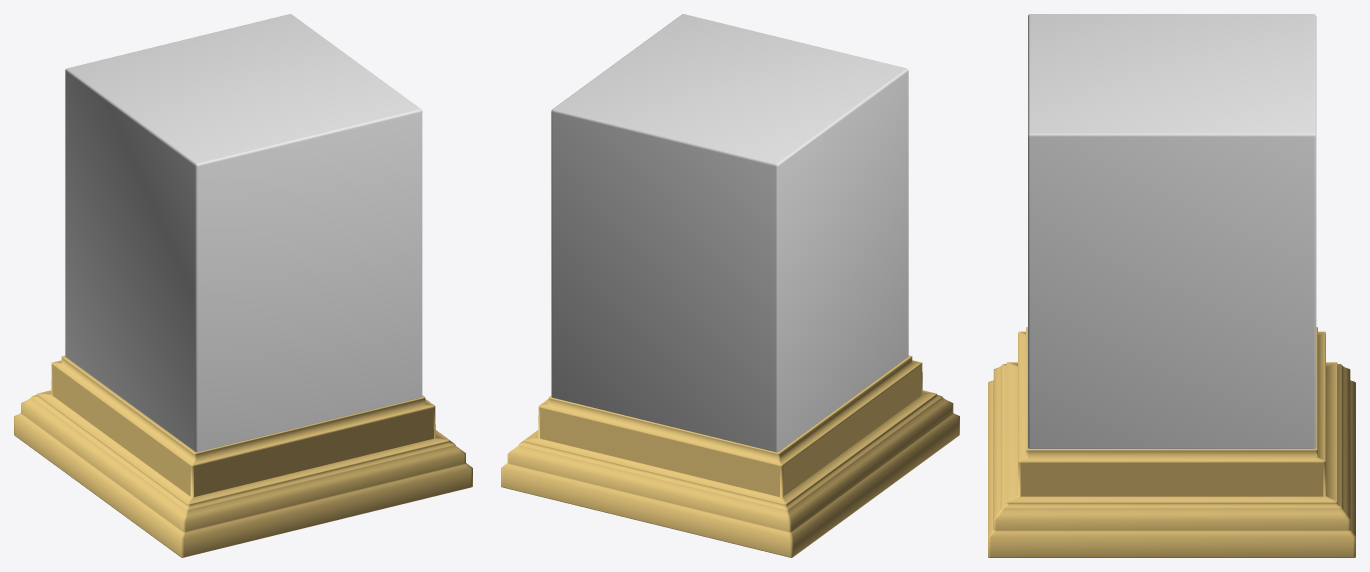
3 views of the same model, side by side, from view 1: azimuth 30°, elevation 25°; view 2: azimuth 150°, elevation 25°; view 3: azimuth 270°, elevation 25° (orthographic). The views are drawn at different scales.
Parts seen in each view (by area): view 1: glass, soles; view 2: glass, soles; view 3: glass, soles.
Part boxes in pixels (x1,y1,x2,y2): glass: [65, 14, 422, 452]; soles: [14, 355, 472, 557]; glass: [551, 14, 908, 452]; soles: [501, 355, 959, 557]; glass: [1028, 14, 1316, 448]; soles: [988, 327, 1355, 557].
Bounding box in the file's own units: 5.86 × 7.16 × 5.86.
